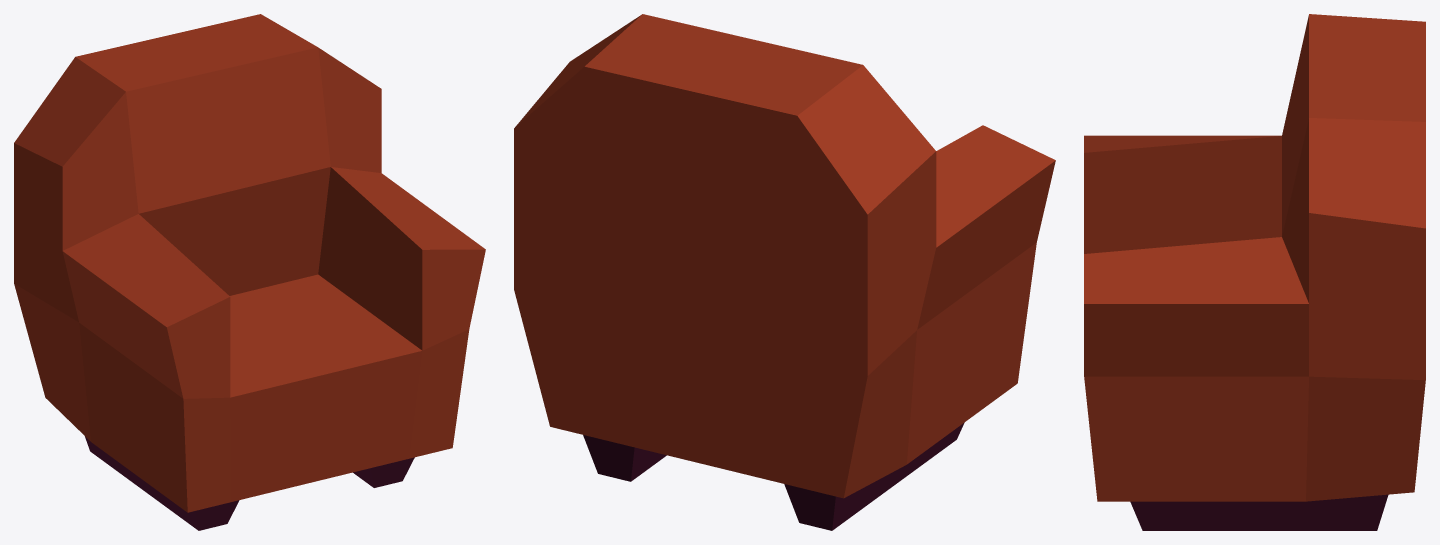
The model's file is Poltrona.fbx.
3 views of the same model, side by side, from view 1: azimuth 30°, elevation 25°; view 2: azimuth 150°, elevation 25°; view 3: azimuth 270°, elevation 25° (orthographic). The views are drawn at different scales.
Parts seen in each view (by area): view 1: Poltrona; view 2: Poltrona; view 3: Poltrona.
Boxes of the visible parts, <box> form: Poltrona: <box>14,14,485,530</box>; Poltrona: <box>514,14,1055,530</box>; Poltrona: <box>1084,14,1425,530</box>.
Bounding box in the file's own units: 0.8679 × 0.9921 × 0.746.
